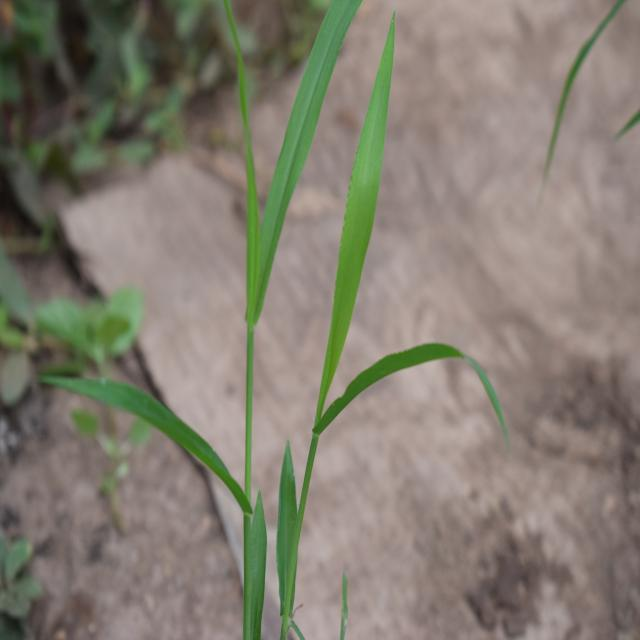crabgrass: (145, 9, 451, 622)
